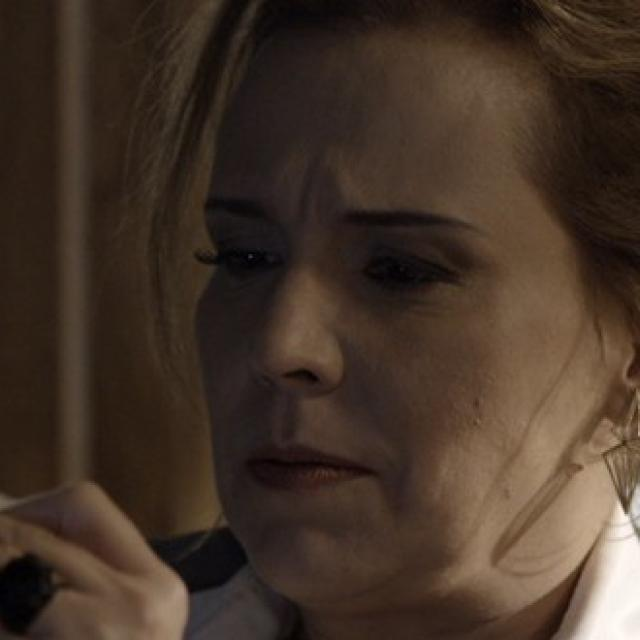Depress: (187, 39, 593, 608)
